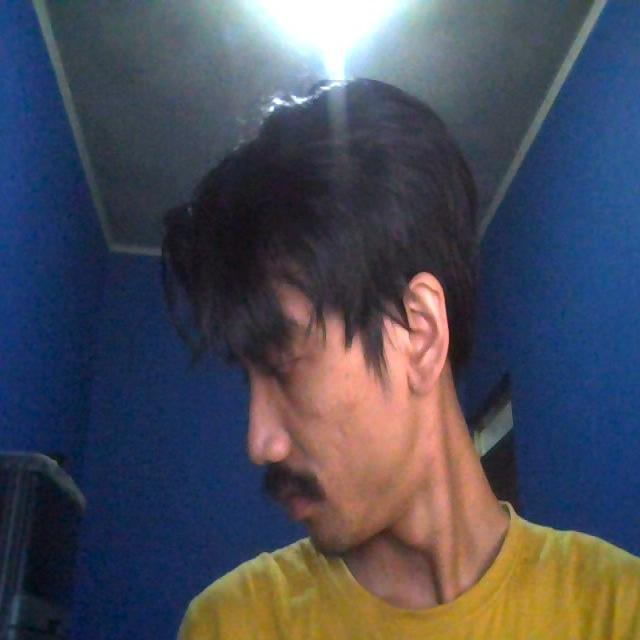Melihat kekanan: (135, 53, 521, 555)
